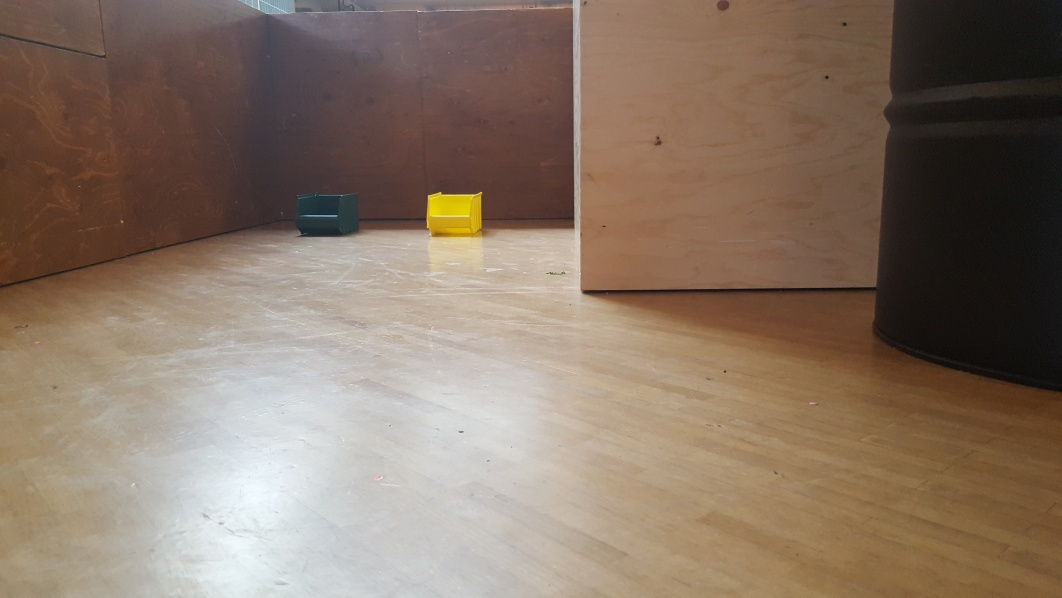tray: (291, 191, 363, 238), (422, 190, 488, 235)
